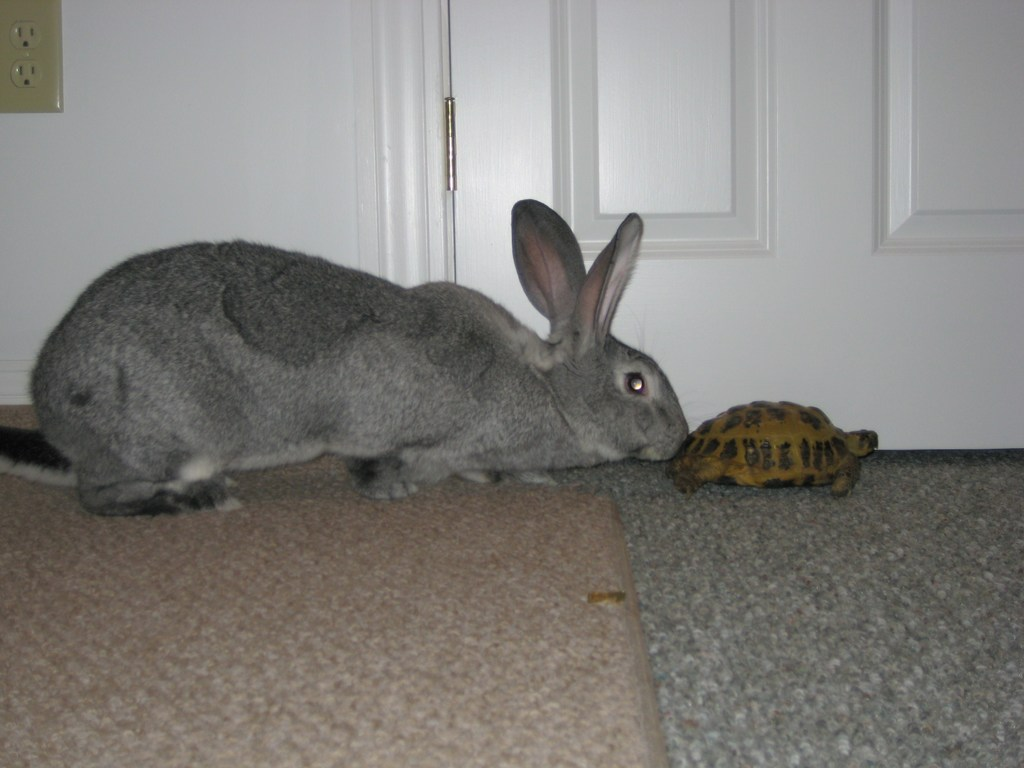Sea turtles: (668, 392, 879, 499)
